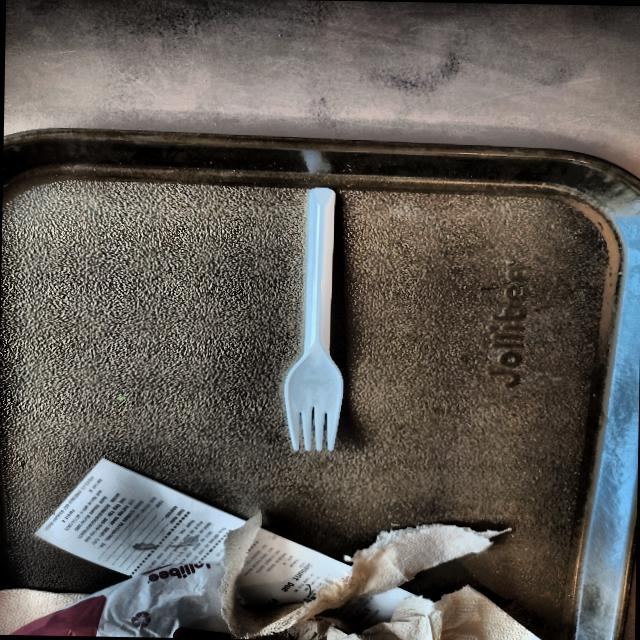plastic utensil: (284, 187, 342, 450)
